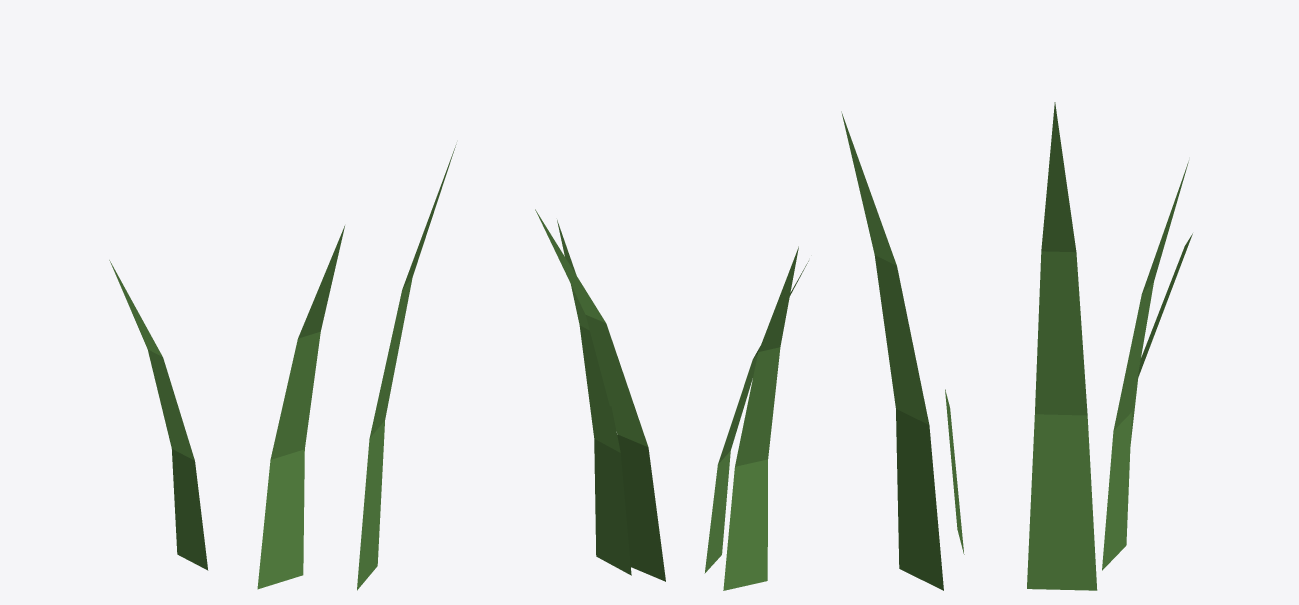
File: grass-tuft.glb
3 views of the same model, side by side, from view 1: azimuth 30°, elevation 25°; view 2: azimuth 150°, elevation 25°; view 3: azimuth 270°, elevation 25° (orthographic). The views are drawn at different scales.
Visible parts, largest first — view 1: grass-tuft; view 2: grass-tuft; view 3: grass-tuft.
Boxes of the visible parts, bbox=[...] form: grass-tuft: bbox=[109, 144, 456, 590]; grass-tuft: bbox=[535, 209, 808, 590]; grass-tuft: bbox=[841, 102, 1192, 590].
Bounding box in the file's own units: 0.3888 × 0.5 × 0.3708.
1 material, 1 textured.
